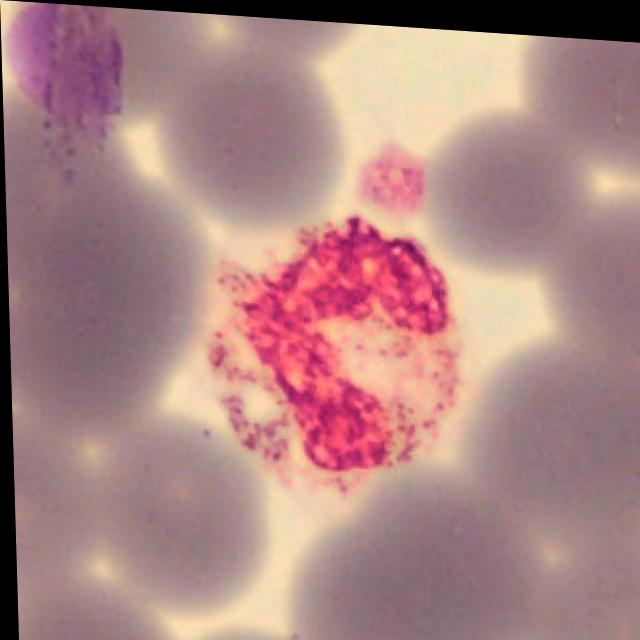Bastonete: (202, 207, 464, 493)
